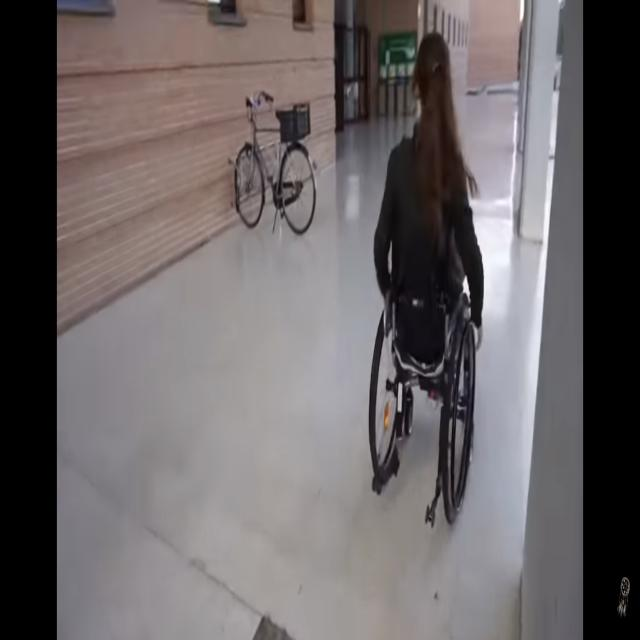wheelchairs: (367, 216, 478, 531)
